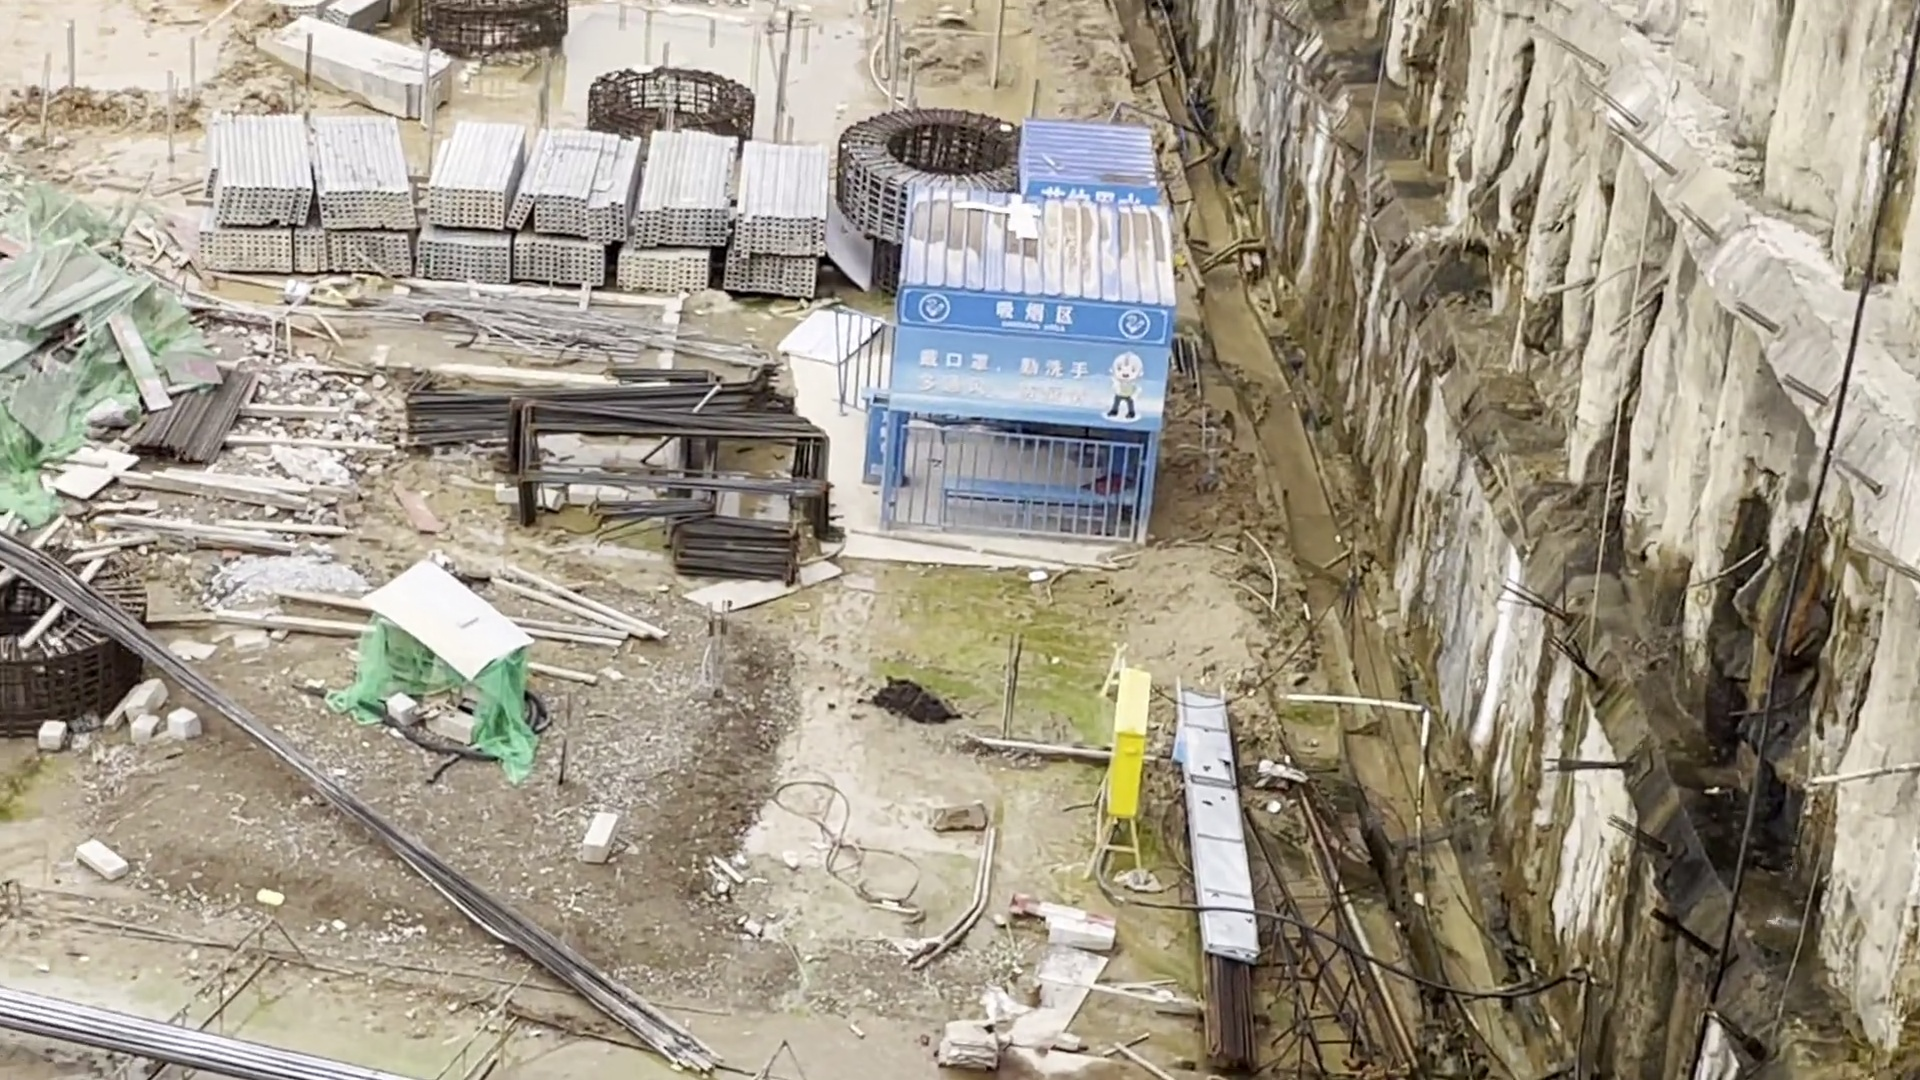ebox: (1087, 665, 1163, 889)
rebar: (5, 986, 345, 1080)
scaffold: (193, 113, 837, 301), (257, 15, 458, 105)
slogan: (906, 289, 1160, 436)
